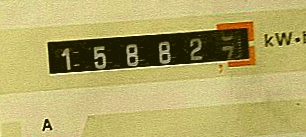1: (61, 42, 76, 72)
2: (188, 35, 206, 62)
5: (92, 42, 111, 73)
7: (221, 42, 235, 60)
8: (124, 40, 142, 69), (157, 37, 175, 66)
screen: (36, 11, 265, 87)
